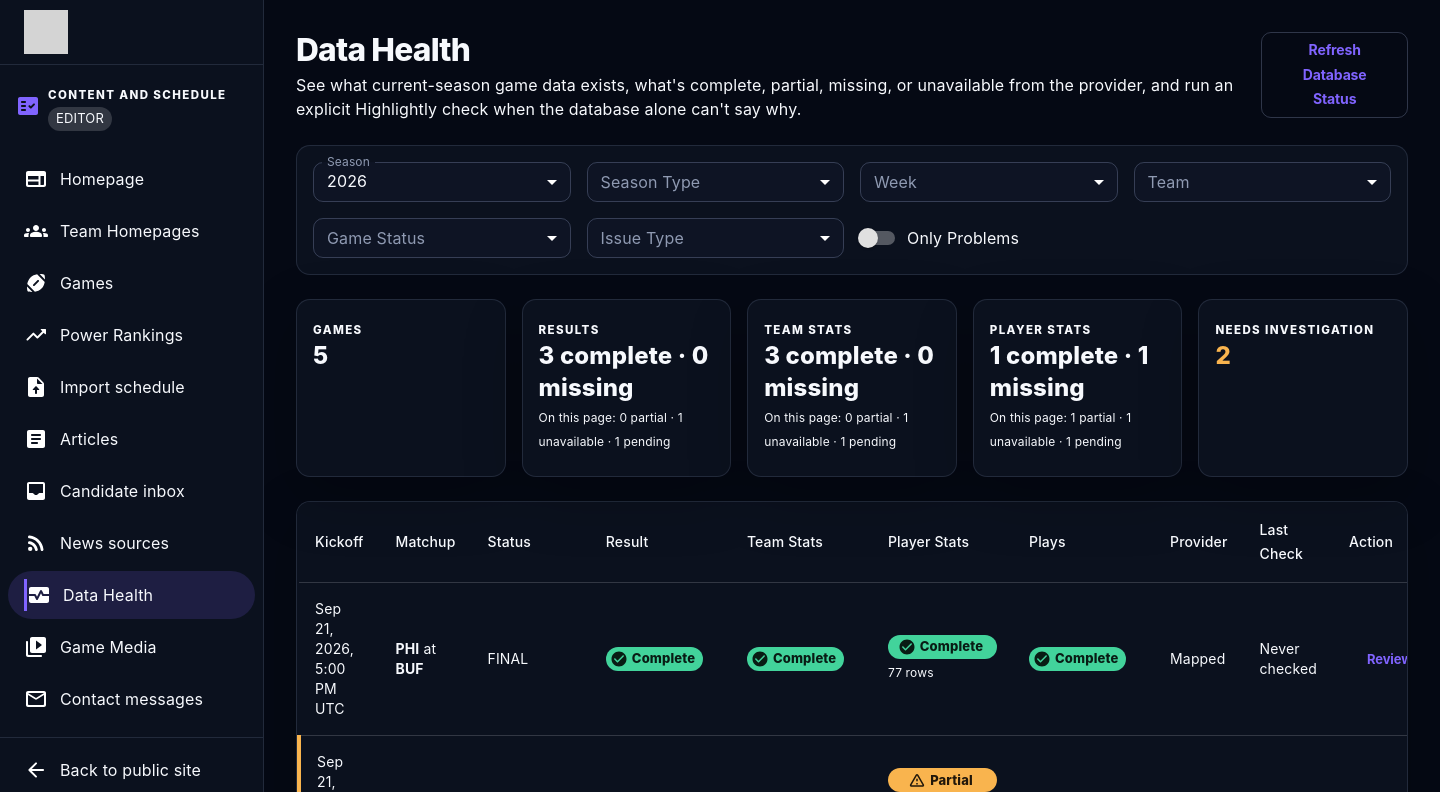
Admin Data Health › gates the probe action to ADMIN and disables it for EDITOR
Check: the heading "Data Health" is shown, box [296, 30, 470, 69]
What coordinates should you click on to do the following:
click the button "Review" in the row of "77 rows"
I would click on:
 (1390, 659)
Its box is [1349, 638, 1430, 680].
(page scrolled)
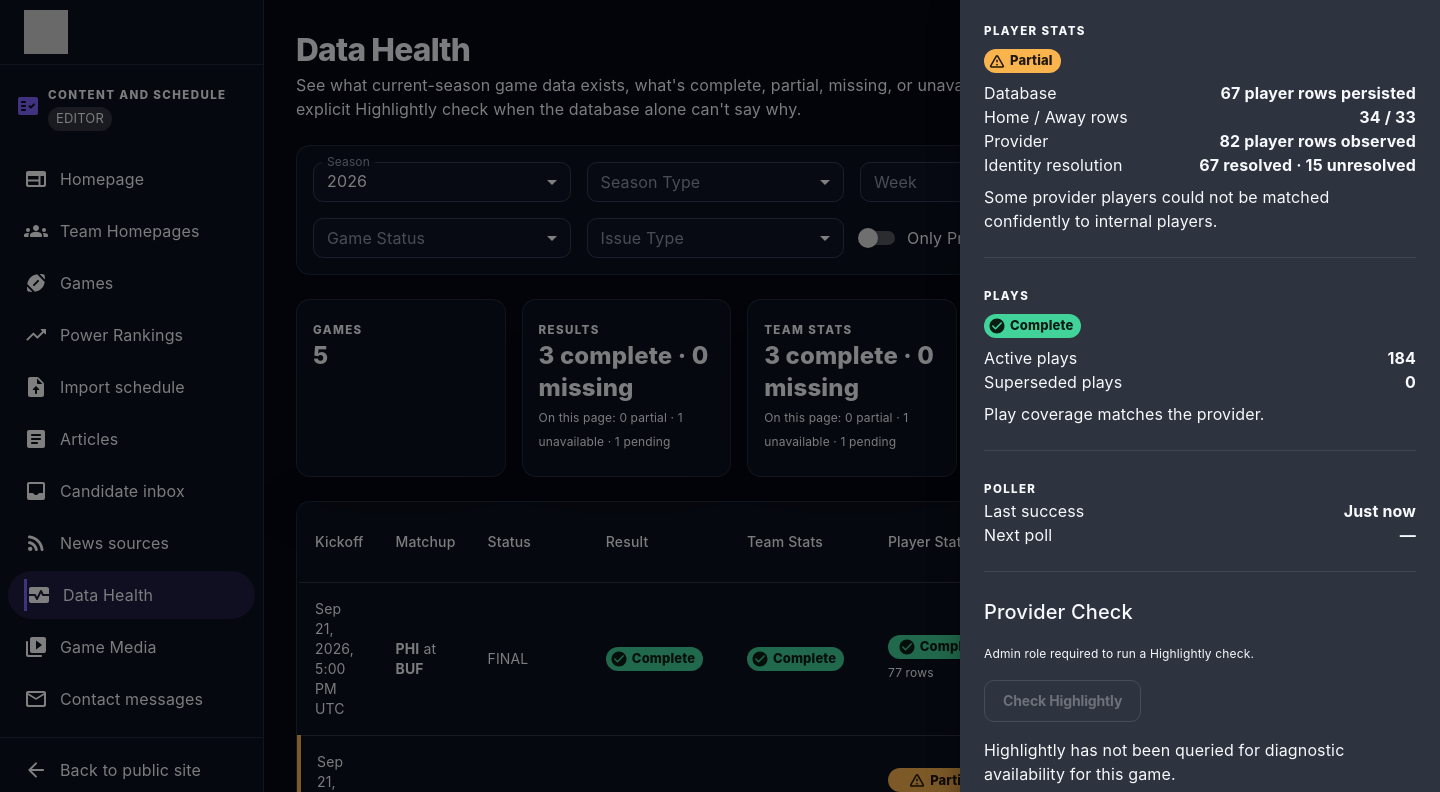
Check: the button "Check Highlightly" is disabled, box [984, 680, 1141, 722]
Check: the text "Admin role required to run a Highlightly check." is shown, box [984, 646, 1254, 661]
